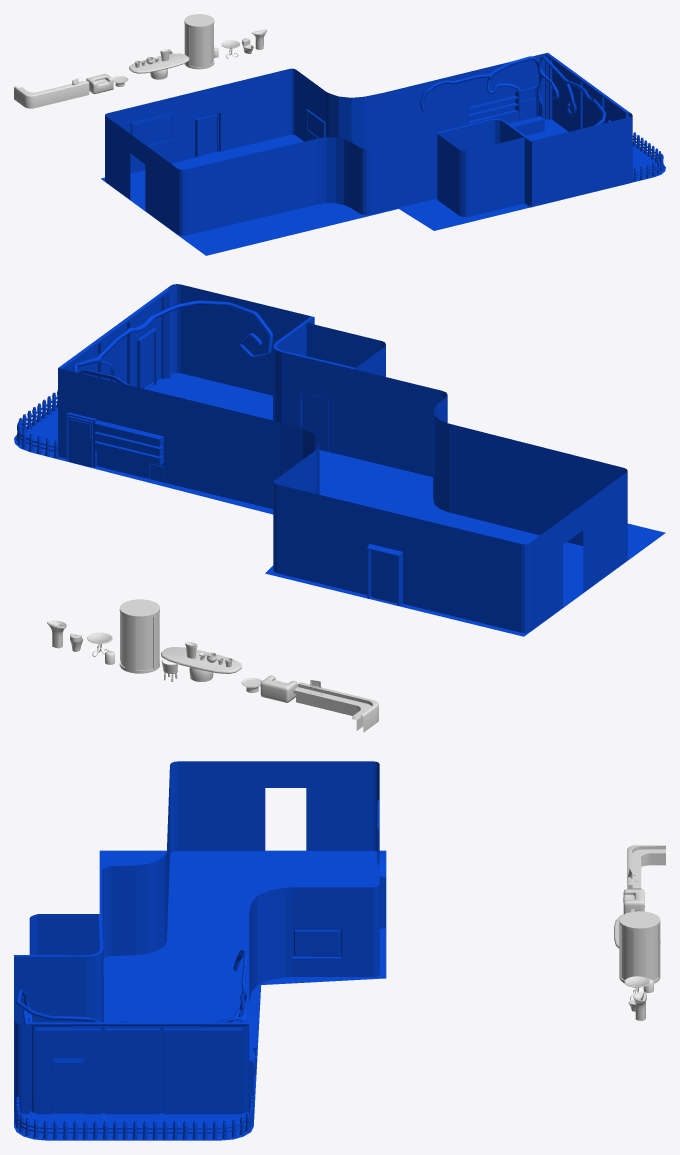
Rendered from hotel.fbx.
3 views of the same model, one above another, from view 1: azimuth 30°, elevation 25°; view 2: azimuth 150°, elevation 25°; view 3: azimuth 270°, elevation 25° (orthographic). The views are drawn at different scales.
Visible parts, largest first — view 1: pared, suelo, pared.005, pared.004, pared.006, pared.002, pared.003, pared.001, arbol, Plane.020, tableero, puerta (+5 smaller); view 2: pared, pared.005, suelo, pared.002, pared.004, pared.001, pared.003, pared.006, arbol, Plane.020, puerta, Cylinder.019 (+5 smaller); view 3: pared, suelo, pared.003, pared.001, pared.006, puerta.001, pared.004, arbol, Cylinder.010, Cylinder.019, Plane.020, barandillaHorizontal (+1 smaller).
Boxes of the visible parts, x1,y1,x2,y2 form: pared: (105, 68, 468, 235); suelo: (101, 119, 665, 255); pared.005: (107, 69, 289, 173); pared.004: (532, 112, 632, 206); pared.006: (437, 134, 524, 217); pared.002: (468, 53, 545, 124); pared.003: (545, 52, 628, 131); pared.001: (436, 118, 532, 207); arbol: (420, 56, 606, 125); Plane.020: (14, 81, 89, 108); tableero: (130, 112, 173, 146); puerta: (195, 113, 220, 157); pared: (164, 369, 627, 633); pared.005: (276, 484, 521, 632); suelo: (14, 373, 665, 636); pared.002: (58, 368, 164, 482); pared.004: (167, 284, 310, 395); pared.001: (273, 316, 356, 457); pared.003: (58, 288, 170, 387); pared.006: (306, 323, 385, 376); arbol: (73, 300, 273, 385); Plane.020: (293, 682, 378, 732); puerta: (367, 544, 402, 605); Cylinder.019: (119, 599, 159, 673); pared: (102, 761, 379, 1002); suelo: (14, 850, 386, 1140); pared.003: (29, 1022, 249, 1114); pared.001: (14, 914, 103, 1045); pared.006: (29, 914, 98, 955); puerta.001: (53, 1060, 83, 1113); pared.004: (14, 1021, 29, 1113); arbol: (16, 950, 247, 1024); Cylinder.010: (621, 926, 658, 980); Cylinder.019: (619, 911, 660, 983); Plane.020: (627, 845, 665, 889); barandillaHorizontal: (16, 1113, 250, 1133).
Bounding box in the file's own units: 2455 × 367 × 2334.
